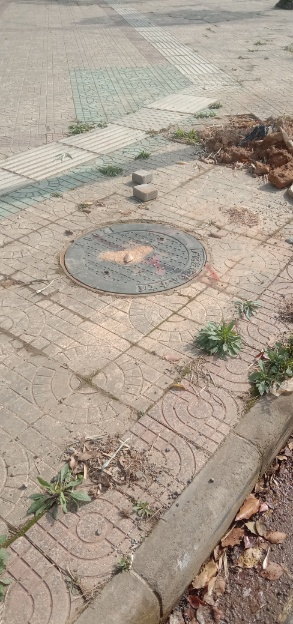well: (58, 223, 209, 296)
